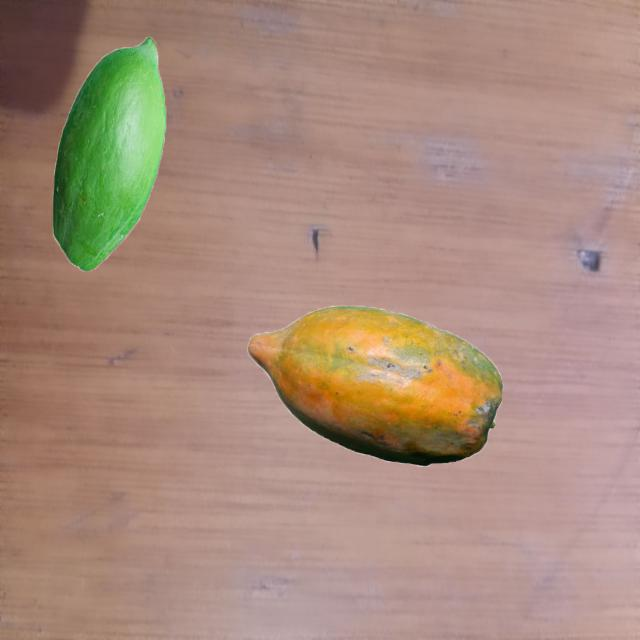Pepaya rippen: (242, 286, 510, 475)
Pepaya unrippen: (49, 42, 170, 270)
